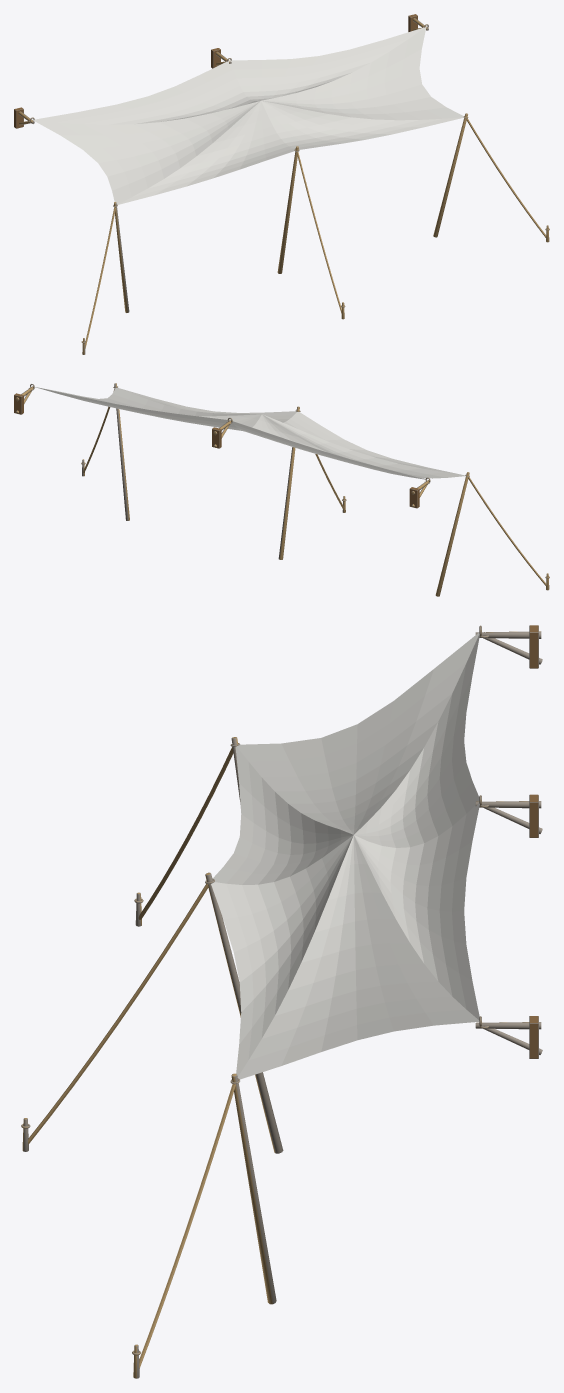
The model's file is nomad_sail_wall_canopy_long.fbx.
3 renders of one model, top to bottom at view 1: azimuth 30°, elevation 25°; view 2: azimuth 150°, elevation 25°; view 3: azimuth 270°, elevation 25°, orthographic. The views are drawn at different scales.
Parts seen in each view (by area): view 1: S16_Canopy, S16_Mast1_SailRig_MastPole, S16_Mast2_SailRig_MastPole, S16_Mast_SailRig_MastPole; view 2: S16_Canopy, S16_Mast_SailRig_MastPole, S16_Mast1_SailRig_MastPole, S16_Mast2_SailRig_MastPole, S16_Guy, S16_WallFix_SailRig_WallBracket, S16_WallFix1_SailRig_WallBracket, S16_WallFix2_SailRig_WallBracket; view 3: S16_Canopy, S16_Mast2_SailRig_MastPole, S16_Mast1_SailRig_MastPole, S16_Guy1, S16_Guy2, S16_WallFix2_SailRig_WallBracket, S16_WallFix_SailRig_WallBracket, S16_WallFix1_SailRig_WallBracket, S16_Guy.
Part boxes in pixels (x1=…): S16_Canopy: x1=33, y1=27, x2=463, y2=204; S16_Mast1_SailRig_MastPole: x1=277, y1=146, x2=299, y2=273; S16_Mast2_SailRig_MastPole: x1=433, y1=113, x2=468, y2=237; S16_Mast_SailRig_MastPole: x1=113, y1=202, x2=129, y2=312; S16_Canopy: x1=35, y1=387, x2=465, y2=479; S16_Mast_SailRig_MastPole: x1=435, y1=472, x2=469, y2=596; S16_Mast1_SailRig_MastPole: x1=278, y1=406, x2=300, y2=559; S16_Mast2_SailRig_MastPole: x1=113, y1=383, x2=129, y2=520; S16_Guy: x1=468, y1=477, x2=546, y2=586; S16_WallFix_SailRig_WallBracket: x1=409, y1=477, x2=430, y2=508; S16_WallFix1_SailRig_WallBracket: x1=212, y1=417, x2=232, y2=448; S16_WallFix2_SailRig_WallBracket: x1=14, y1=384, x2=34, y2=414; S16_Canopy: x1=211, y1=632, x2=479, y2=1079; S16_Mast2_SailRig_MastPole: x1=230, y1=1073, x2=276, y2=1304; S16_Mast1_SailRig_MastPole: x1=205, y1=872, x2=283, y2=1153; S16_Guy1: x1=28, y1=884, x2=208, y2=1144; S16_Guy2: x1=139, y1=1084, x2=235, y2=1367; S16_WallFix2_SailRig_WallBracket: x1=475, y1=1016, x2=542, y2=1058; S16_WallFix_SailRig_WallBracket: x1=475, y1=625, x2=542, y2=668; S16_WallFix1_SailRig_WallBracket: x1=475, y1=794, x2=542, y2=837; S16_Guy: x1=138, y1=747, x2=233, y2=919.
Bounding box in the file's own units: 853 × 311 × 412.
